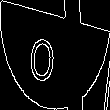O_N: (40, 26, 70, 84)
